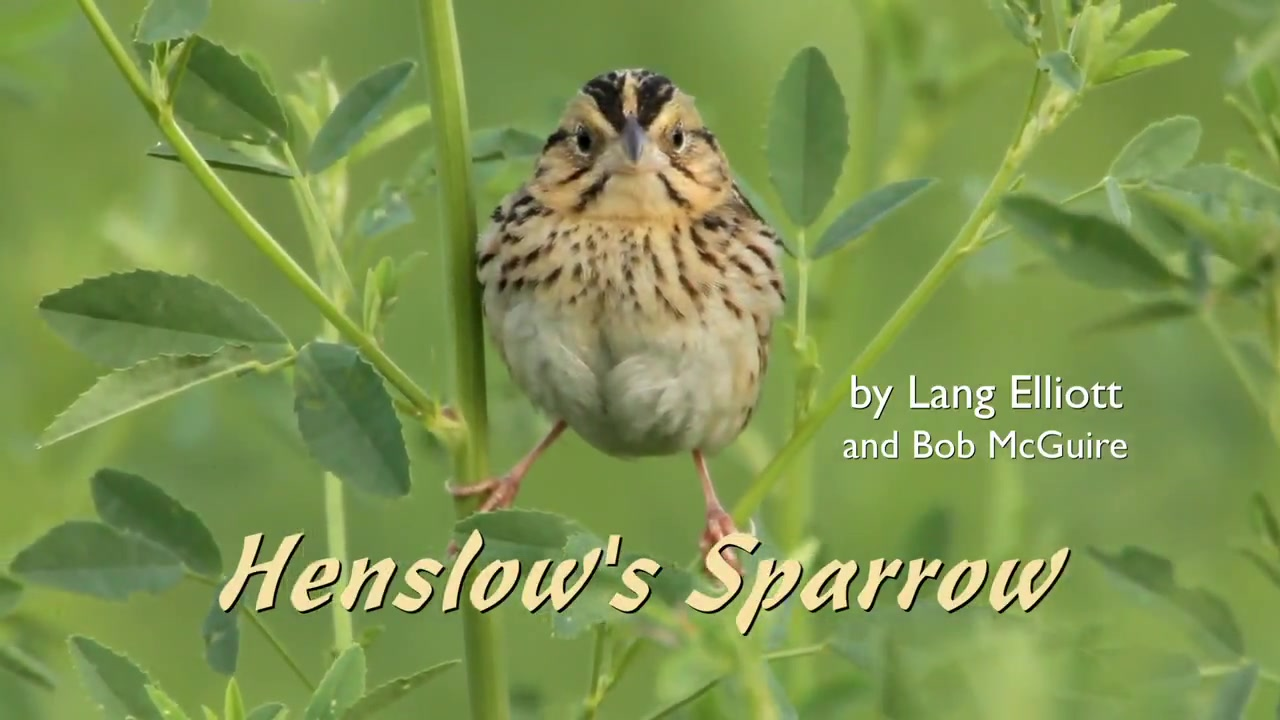bird: (448, 67, 799, 573)
